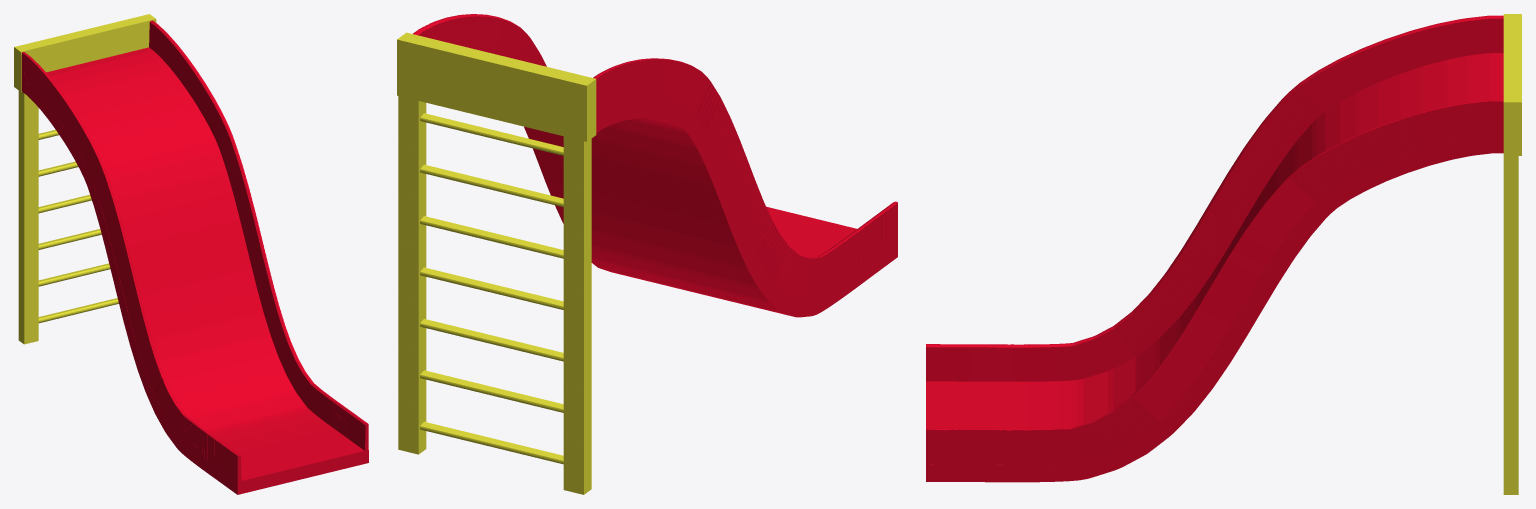
The model's file is slidereducepoly.fbx.
3 views of the same model, side by side, from view 1: azimuth 30°, elevation 25°; view 2: azimuth 150°, elevation 25°; view 3: azimuth 270°, elevation 25° (orthographic). The views are drawn at different scales.
Parts seen in each view (by area): view 1: Cube.001; view 2: Cube.001; view 3: Cube.001.
Boxes of the visible parts, x1,y1,x2,y2 form: Cube.001: [14, 14, 368, 494]; Cube.001: [397, 14, 897, 494]; Cube.001: [926, 14, 1521, 494].
Size of the model in its own units: 361 by 747 by 1028.
